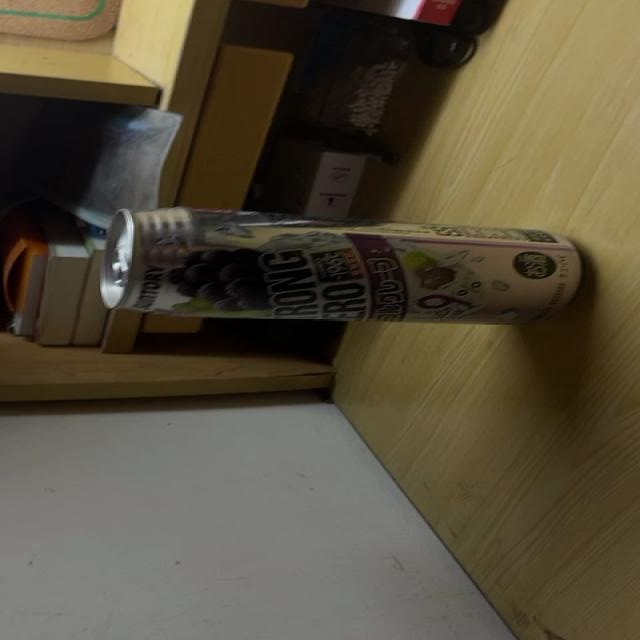Liquor: (102, 207, 591, 325)
